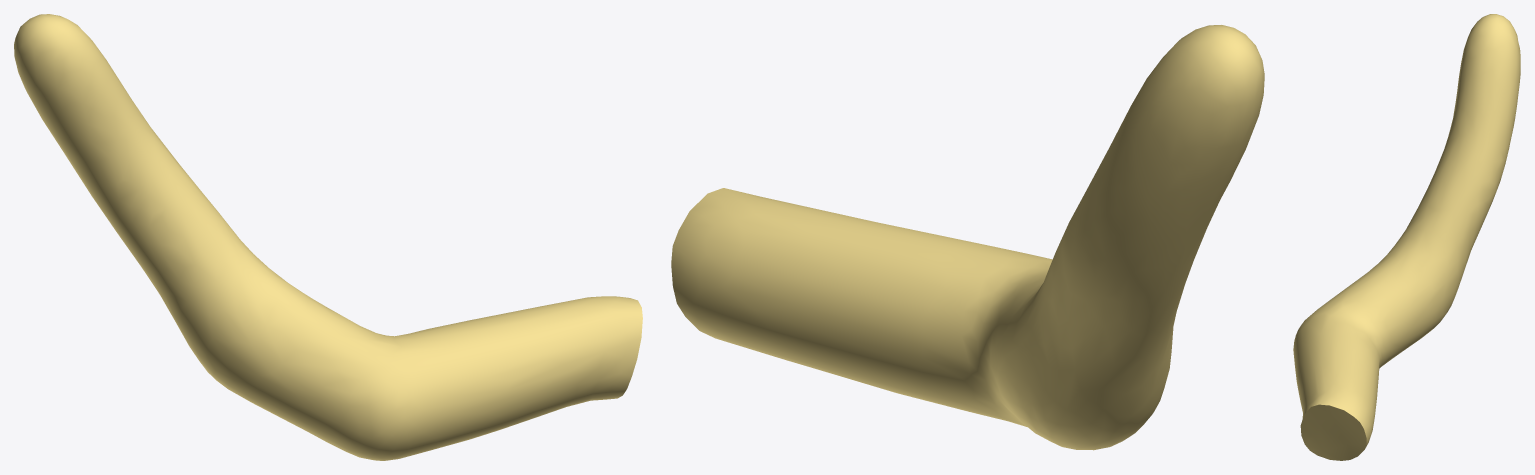
The model's file is fma72712_mm3000.glb.
3 renders of one model, left to right at view 1: azimuth 30°, elevation 25°; view 2: azimuth 150°, elevation 25°; view 3: azimuth 270°, elevation 25°, orthographic. The views are drawn at different scales.
Visible parts, largest first — view 1: FMA72712_MM3000; view 2: FMA72712_MM3000; view 3: FMA72712_MM3000.
Boxes of the visible parts, x1,y1,x2,y2 form: FMA72712_MM3000: (14, 14, 642, 460); FMA72712_MM3000: (671, 25, 1264, 450); FMA72712_MM3000: (1293, 14, 1520, 460).
Bounding box in the file's own units: 0.0176 × 0.0137 × 0.00959.
